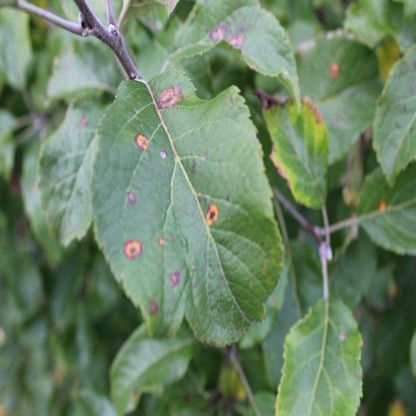rust: (302, 94, 325, 125), (156, 85, 183, 108), (124, 240, 141, 259), (210, 26, 228, 42), (206, 205, 219, 225), (329, 61, 341, 79), (229, 34, 246, 46), (135, 134, 147, 150), (128, 189, 137, 205), (149, 300, 159, 314), (170, 272, 179, 287), (79, 115, 89, 127), (379, 198, 387, 212), (249, 61, 257, 68), (159, 239, 163, 247)
